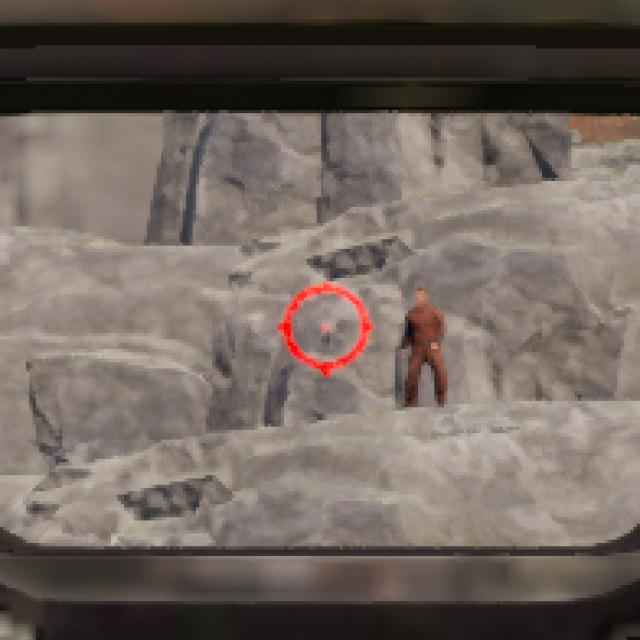Player: (397, 288, 449, 406)
